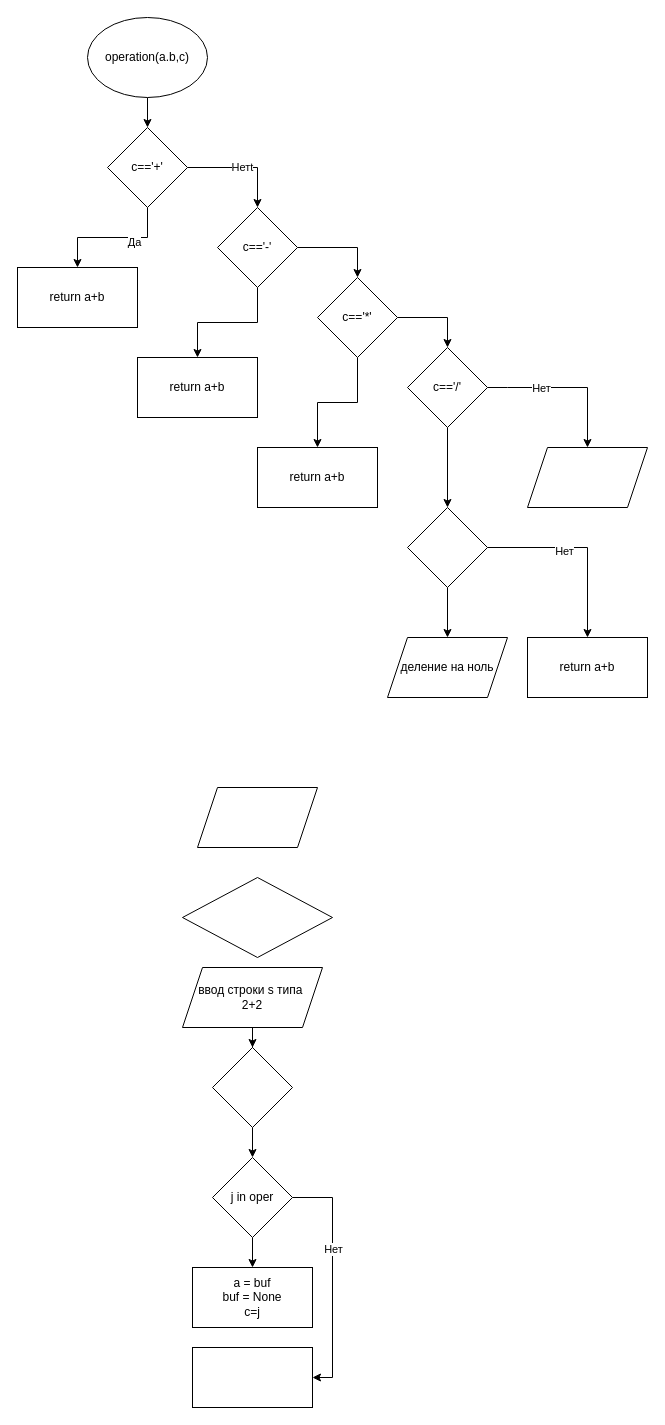
The diagram is 665 pixels wide and 1425 high, and some of its shapes have lost their labels. Here are the shapes that lost their labels. From the top down, the box of each, then its label:
(526, 446, 648, 508): допустимые операции +-/*
(406, 506, 488, 588): b == 0
(196, 786, 318, 848): stop = false oper = '+-/*'
(182, 876, 332, 958): stop = true
(212, 1046, 292, 1128): j in s
(192, 1346, 312, 1408): buf += j
